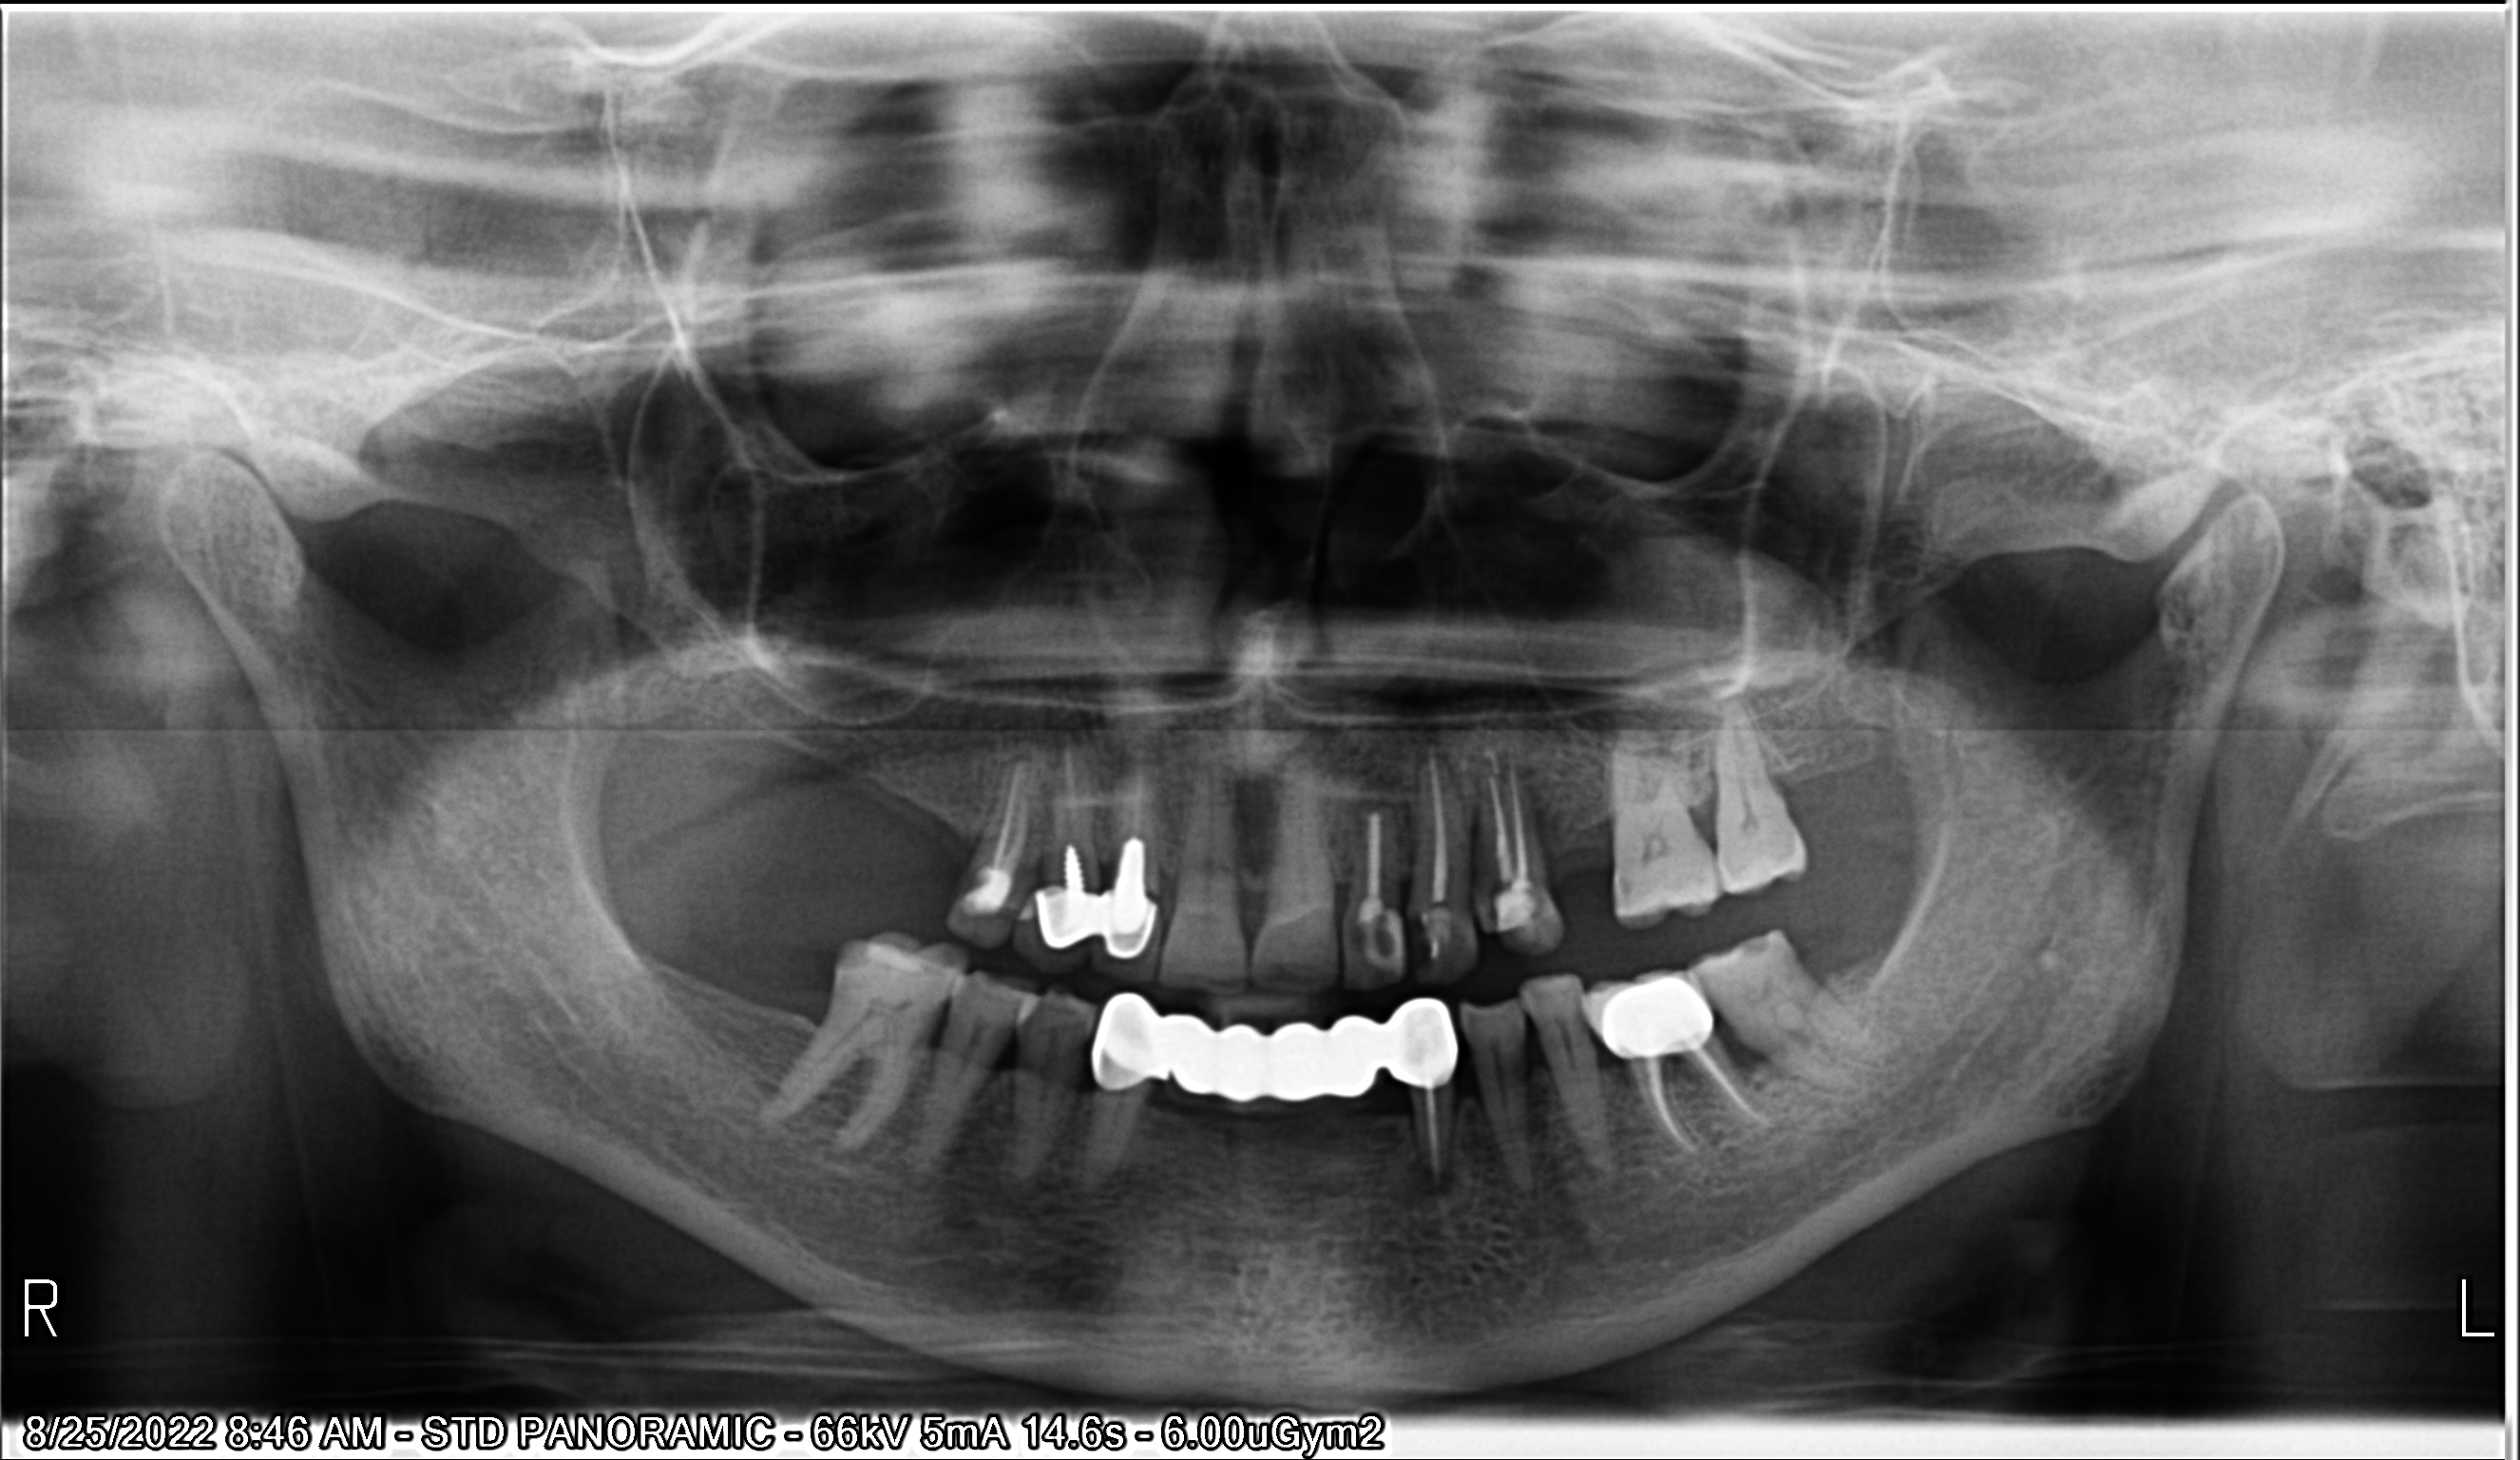APS: (1339, 760, 1403, 829)
BON: (1699, 1022, 1804, 1083), (1582, 1048, 1646, 1123), (1678, 758, 1730, 845), (1440, 1064, 1502, 1135), (1567, 794, 1613, 873)
CAR: (1606, 852, 1639, 904)
END: (1615, 1036, 1773, 1166), (1395, 733, 1478, 914), (1044, 735, 1112, 888), (973, 739, 1040, 879), (1478, 746, 1547, 881), (1112, 744, 1169, 879), (1344, 800, 1417, 902), (1403, 1076, 1455, 1210)
FUR: (1645, 1046, 1719, 1105)
OBT: (952, 853, 1009, 947), (1488, 871, 1553, 947), (1351, 904, 1415, 973), (1412, 900, 1468, 973)
PRR: (1061, 987, 1488, 1112), (1565, 975, 1725, 1058)
